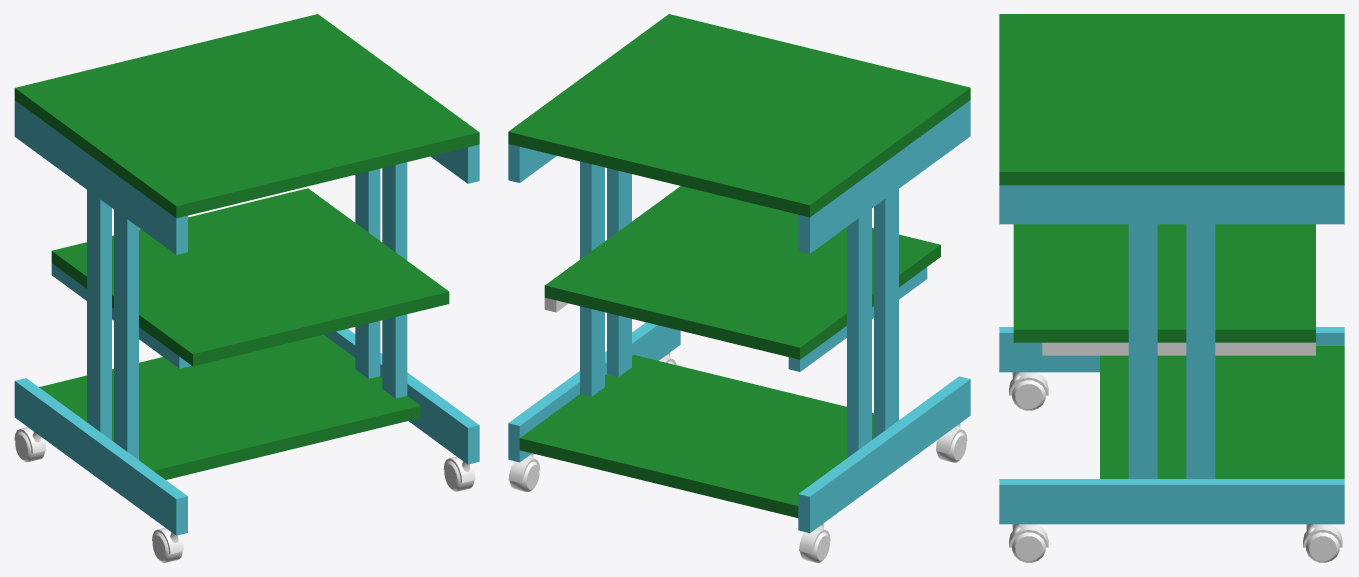
Rendered from cart.FBX.
3 renders of one model, left to right at view 1: azimuth 30°, elevation 25°; view 2: azimuth 150°, elevation 25°; view 3: azimuth 270°, elevation 25°, orthographic. The views are drawn at different scales.
Visible parts, largest first — view 1: SIDETAB2; view 2: SIDETAB2; view 3: SIDETAB2.
Boxes of the visible parts, box(x1,y1,x2,y2) form: SIDETAB2: box(14, 14, 479, 562); SIDETAB2: box(508, 14, 970, 562); SIDETAB2: box(999, 14, 1344, 562).
Size of the model in its own units: 8.93 by 10.09 by 8.08.
